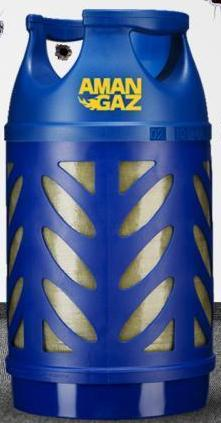cylinder: (0, 1, 221, 423)
